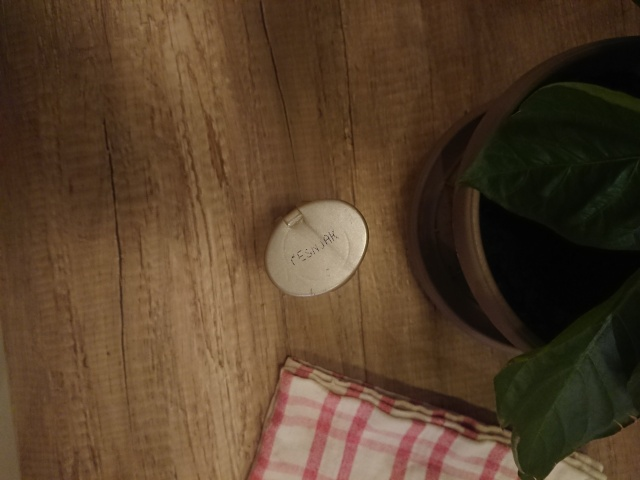Kotanyi Garlic Granules 70g: (261, 194, 372, 301)
